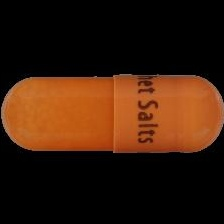0555-0788: (0, 0, 224, 224)
